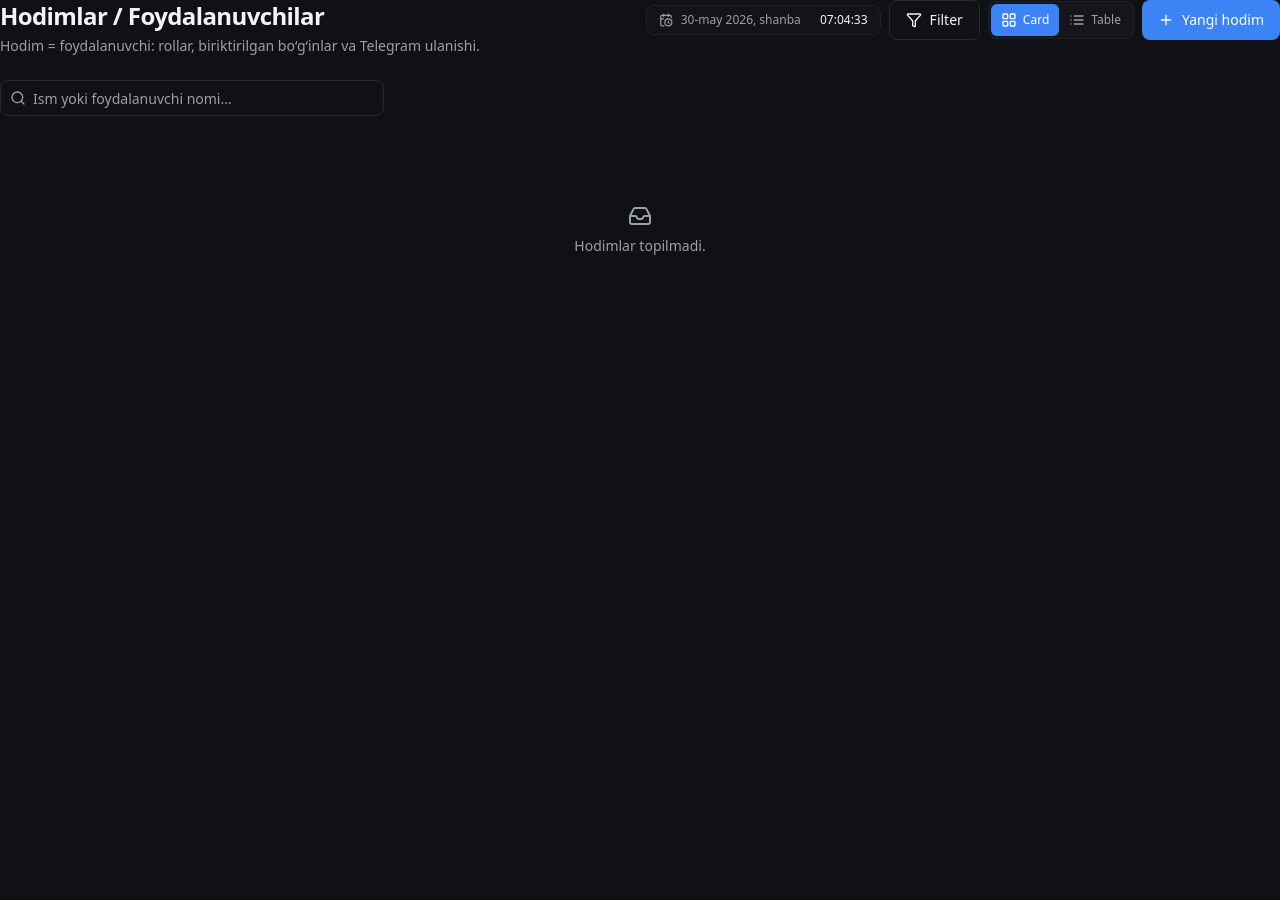
Test: EmployeesPage › opens the create dialog when "Yangi hodim" is clicked
Click the button "Yangi hodim" at x=1211, y=20, box [1142,0,1279,40]
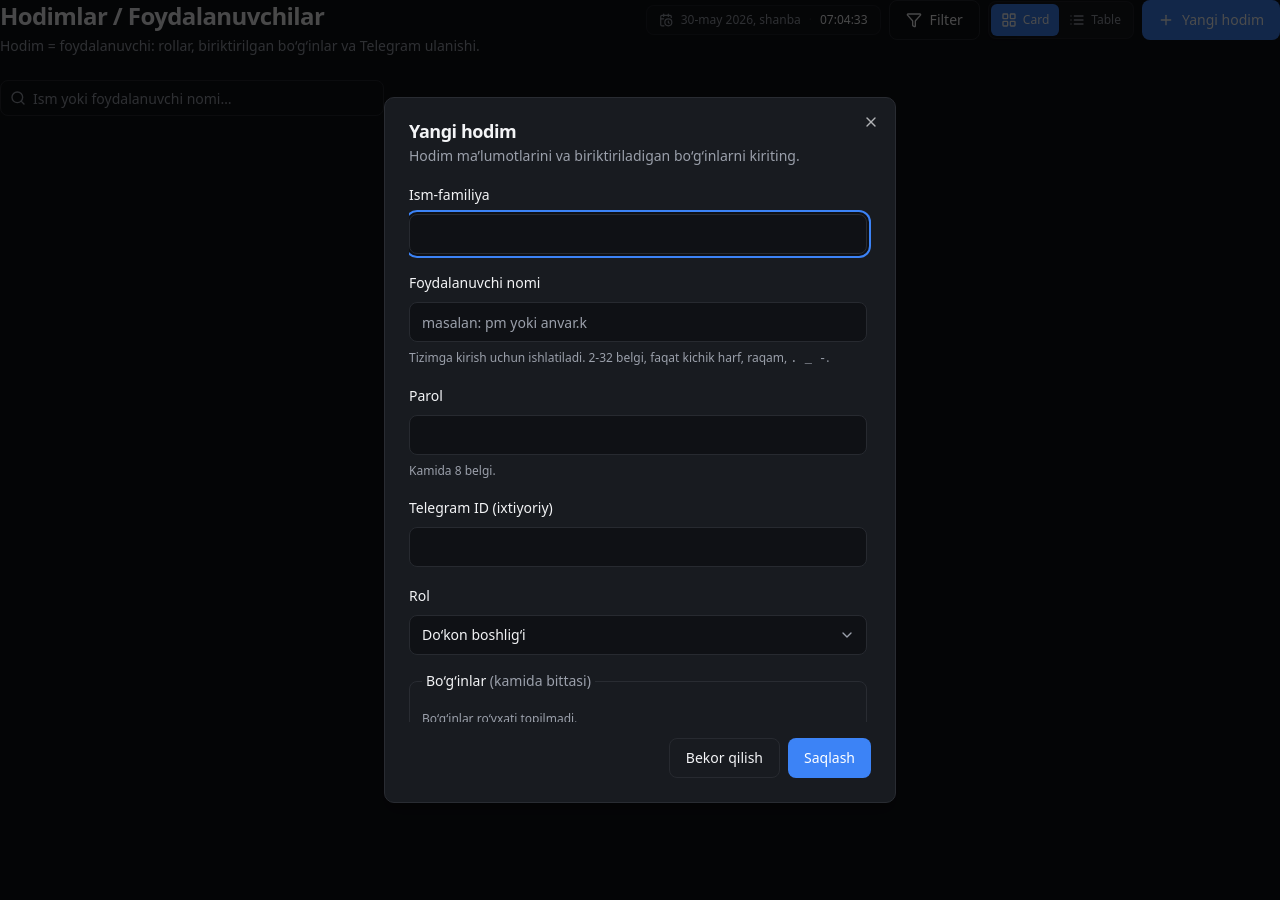
Expected: the dropdown labelled "Rol" is shown, [409,615,867,655]
